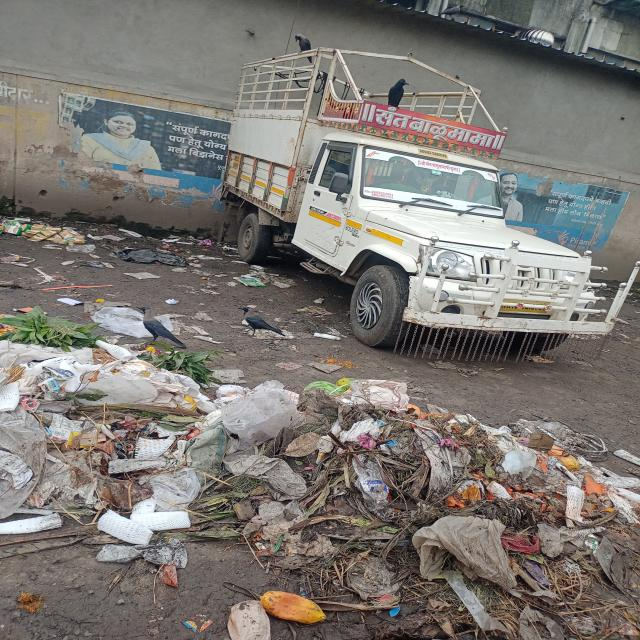garbage: (196, 379, 640, 640), (4, 317, 208, 575), (3, 217, 195, 265)
